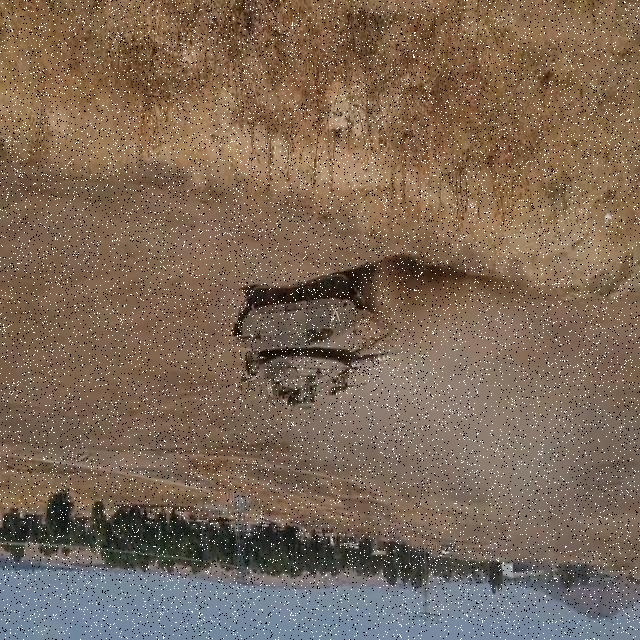MIL_MBT: (232, 255, 416, 410)
